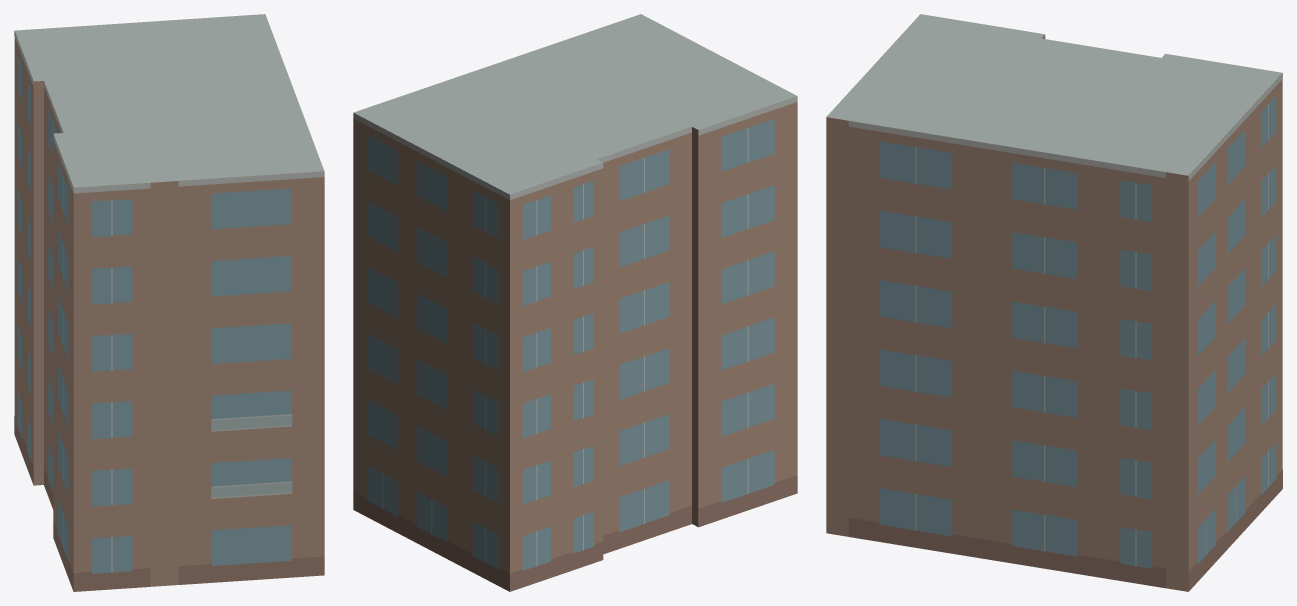
File: survey-upis-32879184.glb
3 views of the same model, side by side, from view 1: azimuth 30°, elevation 25°; view 2: azimuth 150°, elevation 25°; view 3: azimuth 270°, elevation 25° (orthographic). The views are drawn at different scales.
Parts seen in each view (by area): view 1: survey-upis-32879184.tmp; view 2: survey-upis-32879184.tmp; view 3: survey-upis-32879184.tmp.
Part boxes in pixels (<box>): survey-upis-32879184.tmp: <box>14,14,324,591</box>; survey-upis-32879184.tmp: <box>353,14,797,591</box>; survey-upis-32879184.tmp: <box>826,14,1282,591</box>.
Size of the model in its own units: 14.34 by 17.2 by 17.11.
